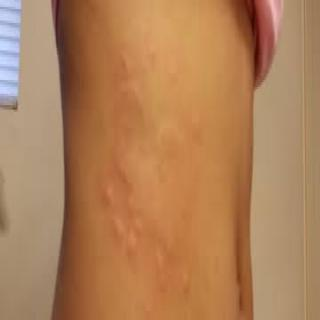urticaria: (103, 35, 168, 244), (125, 252, 188, 308)
